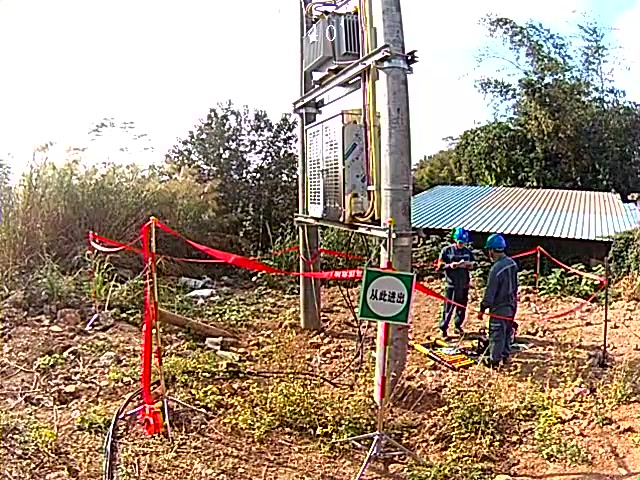downsuit: (441, 287, 469, 330), (491, 316, 515, 360)
halt: (486, 234, 509, 259), (453, 229, 469, 248)
hand: (475, 309, 484, 320), (448, 261, 459, 269), (465, 261, 474, 270)
intosign: (361, 269, 414, 322)
person: (481, 234, 523, 364), (437, 231, 476, 338)
upsuit: (484, 257, 521, 313), (441, 245, 474, 271)
